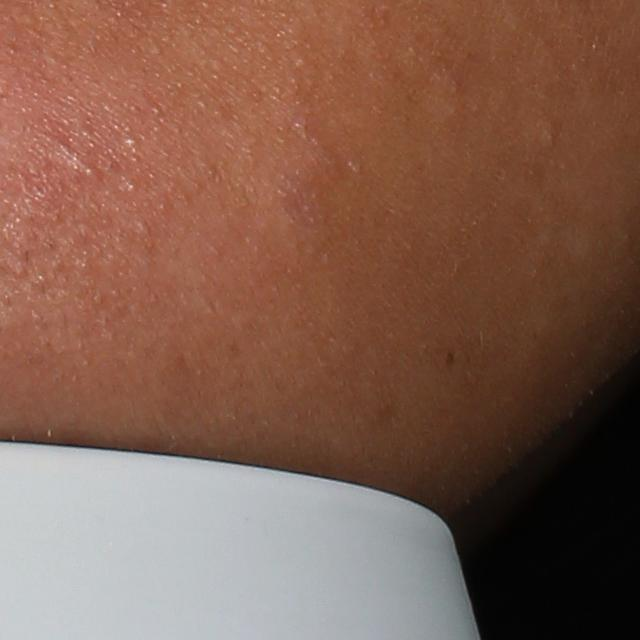comedo: (539, 124, 563, 149), (121, 133, 143, 151)
nevus: (443, 350, 456, 367)
